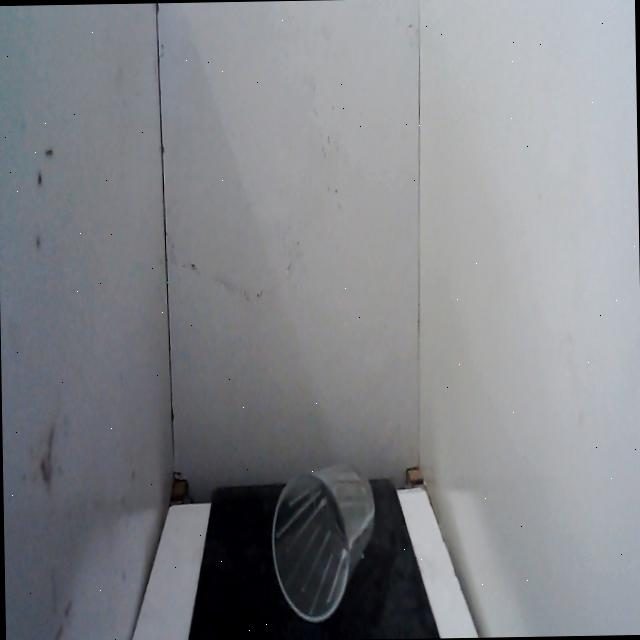vidro: (264, 450, 382, 630)
